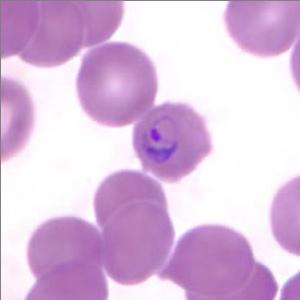Infected: (128, 103, 209, 180)
Uninfected: (76, 38, 157, 126), (158, 225, 254, 295), (96, 203, 176, 285), (30, 218, 106, 300), (90, 173, 167, 244), (12, 0, 82, 67), (224, 0, 300, 59), (23, 259, 110, 300)
